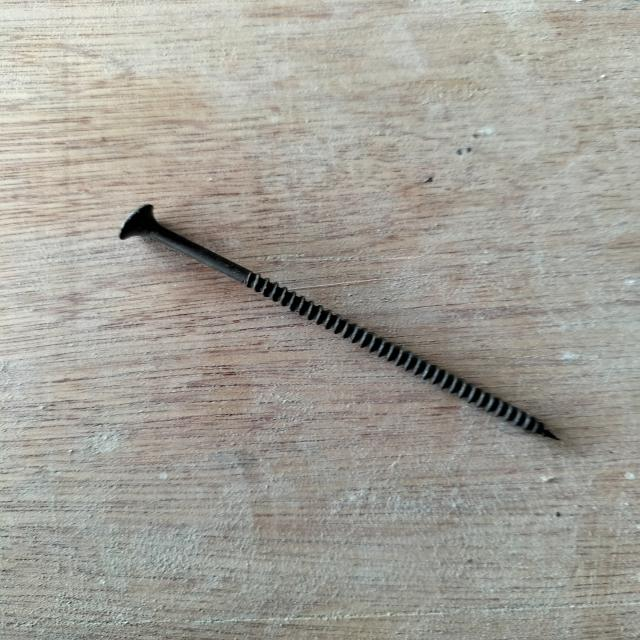screw: (118, 204, 564, 443)
